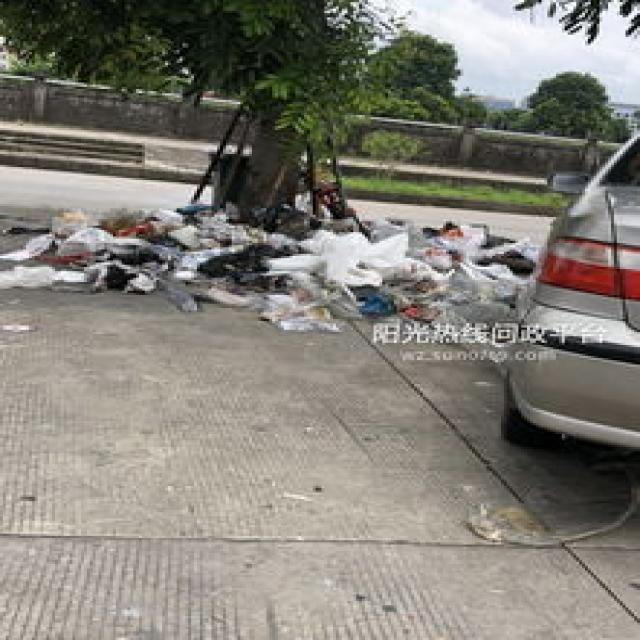garbage: (0, 198, 533, 328)
